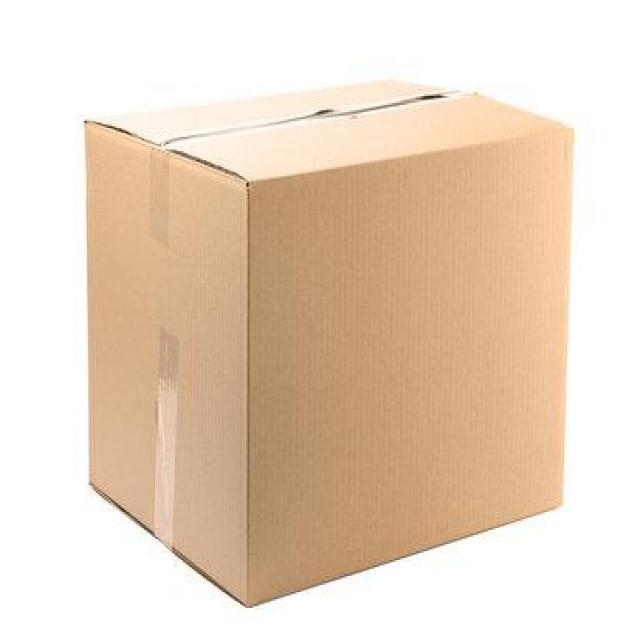box: (82, 70, 575, 609)
